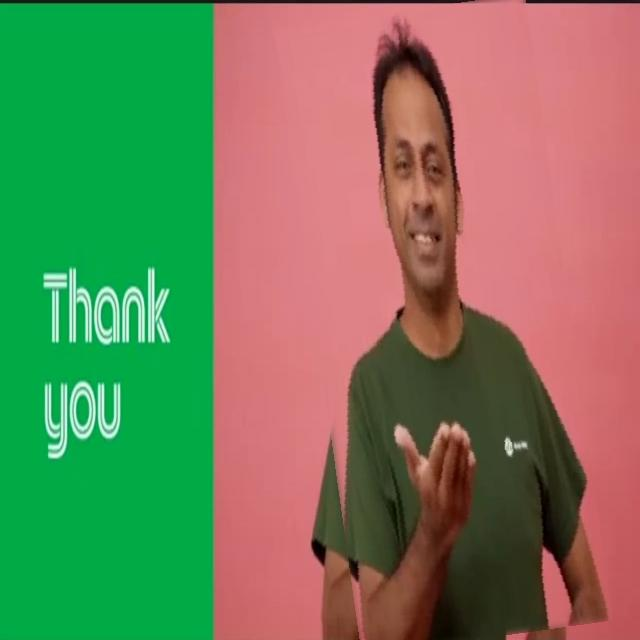ThankYou: (295, 0, 592, 640)
